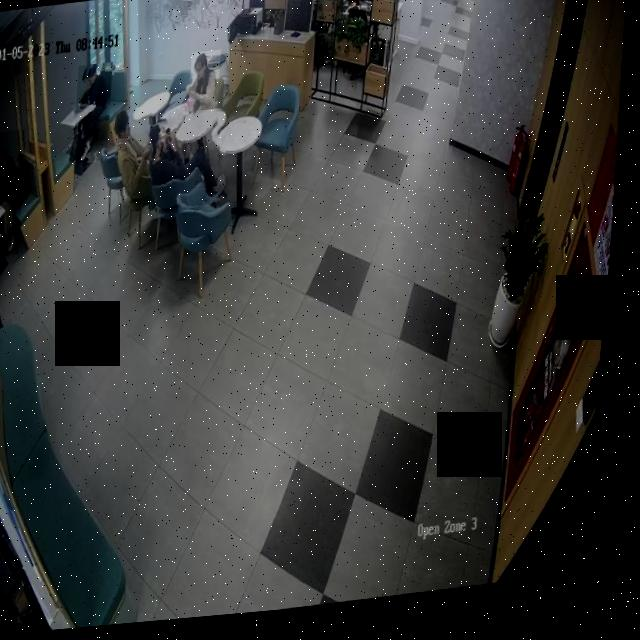person: (142, 110, 235, 220), (111, 107, 163, 206), (72, 64, 118, 166), (0, 129, 32, 259), (188, 53, 224, 115)
